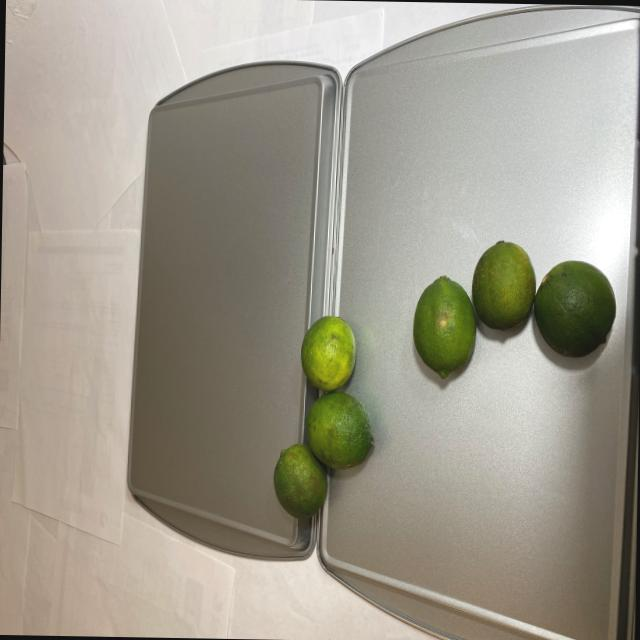lemon: (398, 225, 618, 392), (272, 304, 382, 528)
